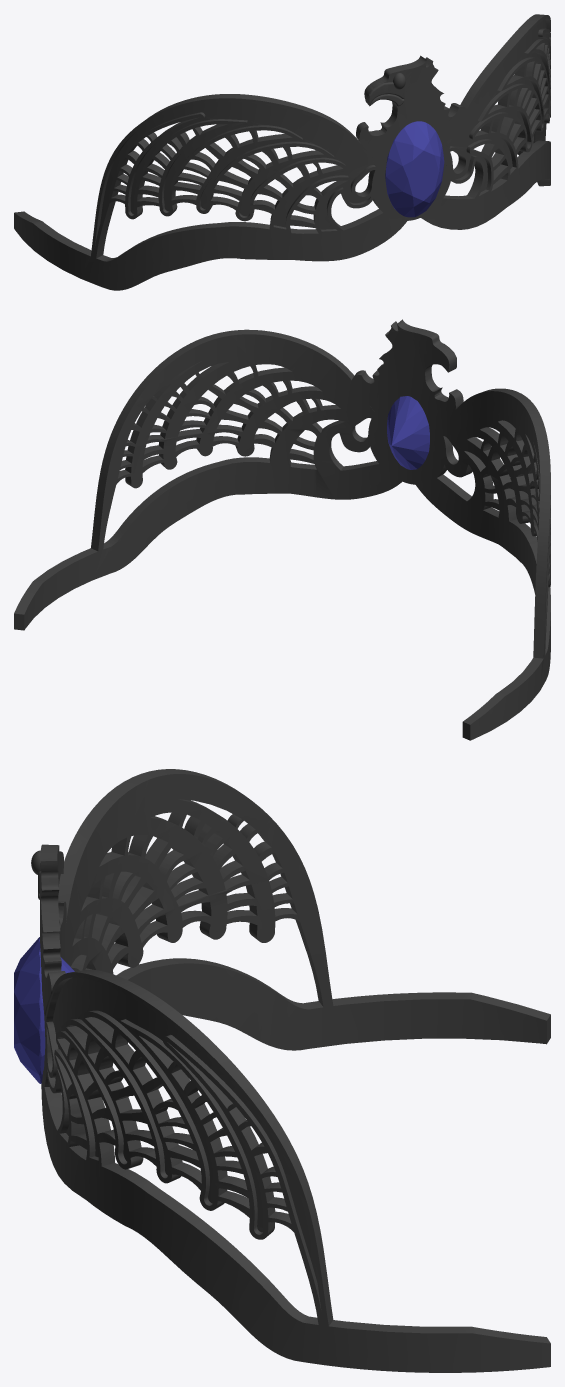
The model's file is diadem2.glb.
3 views of the same model, one above another, from view 1: azimuth 30°, elevation 25°; view 2: azimuth 150°, elevation 25°; view 3: azimuth 270°, elevation 25° (orthographic). The views are drawn at different scales.
Parts seen in each view (by area): view 1: tiara; view 2: tiara; view 3: tiara.
Part boxes in pixels (box(x1,y1,x2,y2)): tiara: box(14, 14, 550, 290); tiara: box(14, 319, 550, 740); tiara: box(14, 769, 550, 1372).
Bounding box in the file's own units: 153 × 73.17 × 102.
